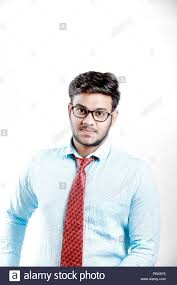Indian_Male: (71, 77, 114, 149)
